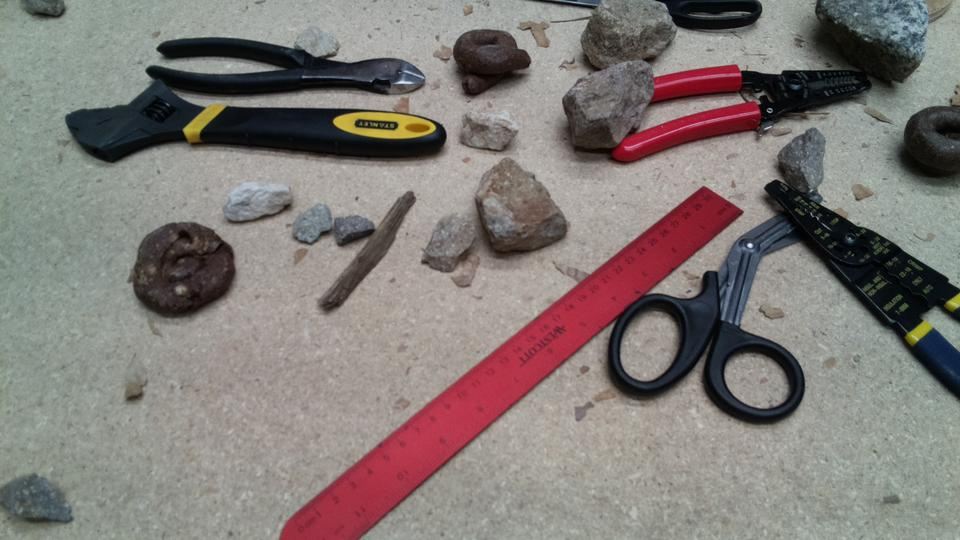poop: (129, 217, 240, 321), (446, 26, 533, 100), (900, 102, 960, 182)
